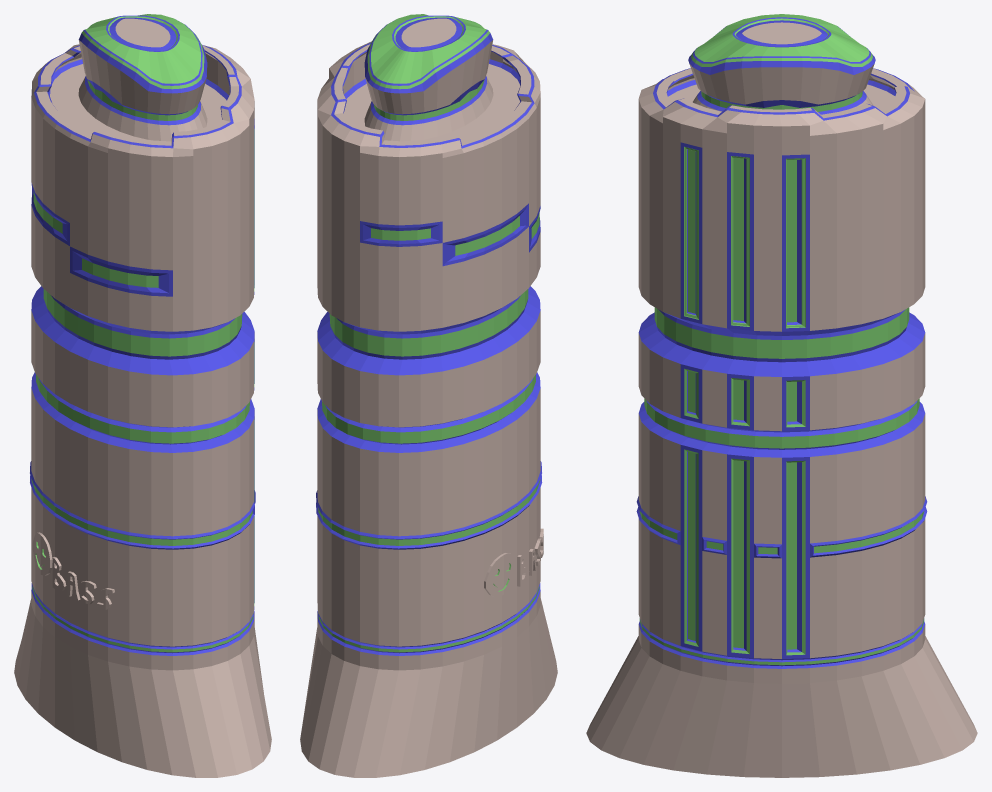
Rendered from Centre_Colonie.fbx.
3 renders of one model, left to right at view 1: azimuth 30°, elevation 25°; view 2: azimuth 150°, elevation 25°; view 3: azimuth 270°, elevation 25°, orthographic. The views are drawn at different scales.
Visible parts, largest first — view 1: Cylinder.001; view 2: Cylinder.001; view 3: Cylinder.001.
Part boxes in pixels (x1=…): Cylinder.001: x1=14, y1=14, x2=271, y2=777; Cylinder.001: x1=300, y1=14, x2=557, y2=777; Cylinder.001: x1=586, y1=14, x2=977, y2=777.
Size of the model in its own units: 1165 by 4169 by 2110.
